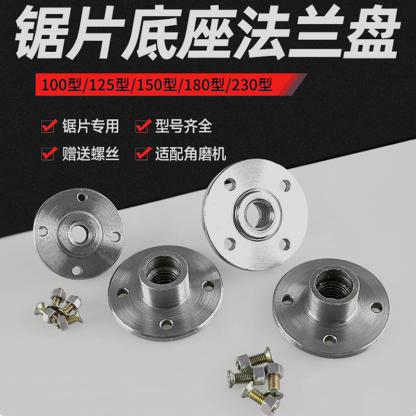FOD: (268, 255, 393, 362), (201, 158, 309, 274), (104, 240, 222, 343), (32, 188, 125, 284)
